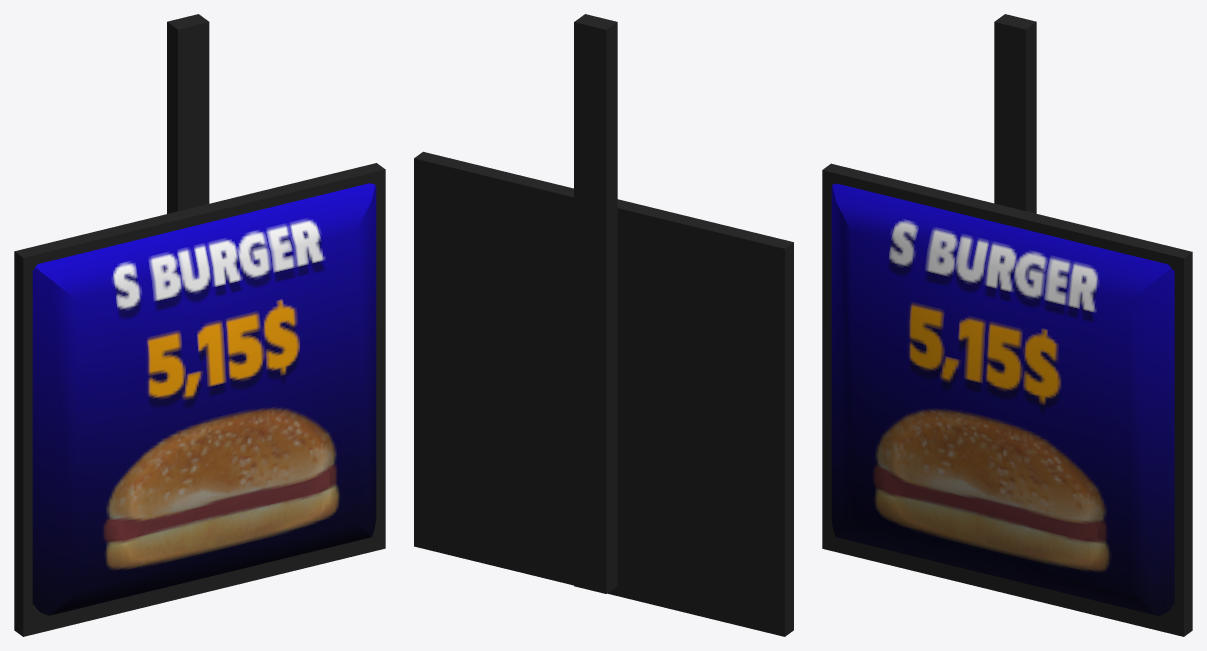
The model's file is cennik.fbx.
3 views of the same model, side by side, from view 1: azimuth 30°, elevation 25°; view 2: azimuth 150°, elevation 25°; view 3: azimuth 330°, elevation 25° (orthographic). The views are drawn at different scales.
Visible parts, largest first — view 1: Cube; view 2: Cube; view 3: Cube.
Boxes of the visible parts, x1,y1,x2,y2 form: Cube: [14, 14, 385, 636]; Cube: [414, 14, 793, 636]; Cube: [822, 14, 1192, 636].
Bounding box in the file's own units: 211 × 312 × 41.52.
